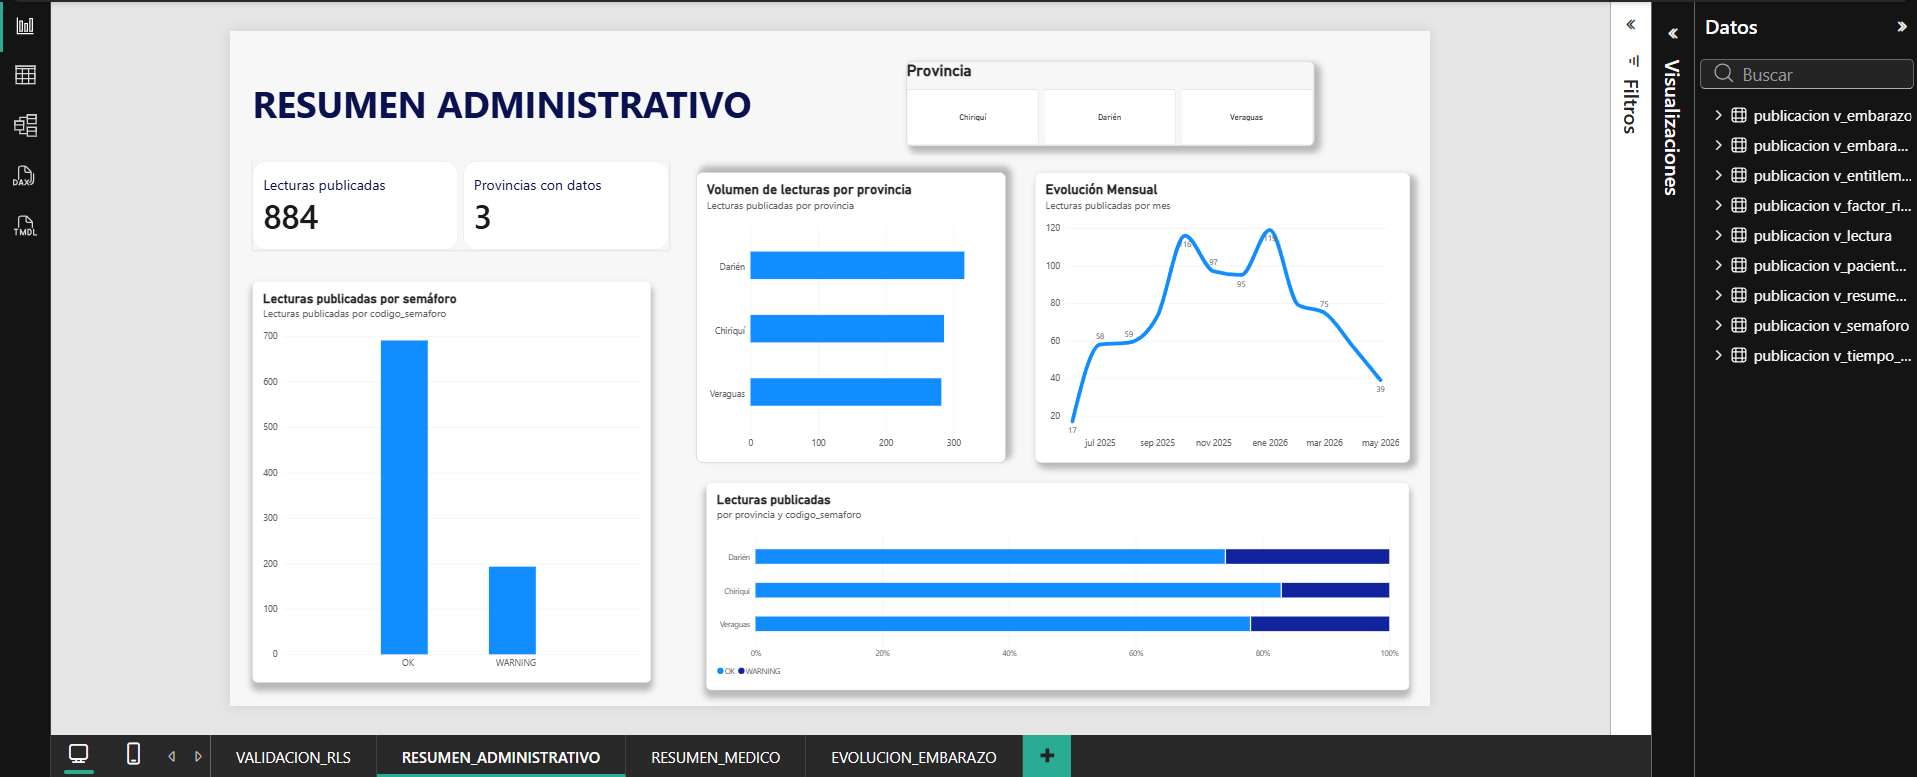

Layout of this report page (visuals, bound fields, positions):
{"tool":"powerbi","page":{"name":"RESUMEN_ADMINISTRATIVO","canvas":[1920,1080],"ordinal":1},"visuals":[{"type":"cardVisual","fields":{"Data":["publicacion v_resumen_administrativo.Lecturas publicadas","publicacion v_resumen_administrativo.Provincias con datos"]},"box":[35,207.5,667.5,142.5],"z":0},{"type":"clusteredColumnChart","title":"Lecturas publicadas por semáforo","fields":{"Category":["publicacion v_resumen_administrativo.codigo_semaforo"],"Y":["publicacion v_resumen_administrativo.Lecturas publicadas"]},"box":[35,400,637.5,642.5],"z":1000},{"type":"hundredPercentStackedBarChart","fields":{"Category":["publicacion v_resumen_administrativo.provincia"],"Series":["publicacion v_resumen_administrativo.codigo_semaforo"],"Y":["publicacion v_resumen_administrativo.Lecturas publicadas"]},"box":[762.5,722.5,1125,332.5],"z":2000},{"type":"lineChart","title":"Evolución Mensual","fields":{"Category":["publicacion v_resumen_administrativo.mes"],"Y":["publicacion v_resumen_administrativo.Lecturas publicadas"]},"box":[1287.5,225,600,465],"z":3000},{"type":"textbox","box":[35,75,962.5,107.5],"z":4000},{"type":"advancedSlicerVisual","title":"Provincia","fields":{"Values":["publicacion v_resumen_administrativo.provincia"]},"box":[1082.5,47.5,652.5,136],"z":5000},{"type":"barChart","title":"Volumen de lecturas por provincia","fields":{"Category":["publicacion v_resumen_administrativo.provincia"],"Y":["publicacion v_resumen_administrativo.Lecturas publicadas"]},"box":[745,225,495,465],"z":6000}]}

Visuals, with their boxes on the page's 1920x1080 design canvas (x1, y1, x2, y2). These are canvas units, not pixel positions in the 1917x777 screenshot, which may show the page scaled, cropped or inside an application window:
cardVisual - publicacion v_resumen_administrativo.Lecturas publicadas x publicacion v_resumen_administrativo.Provincias con datos: detection(35, 208, 702, 350)
"Lecturas publicadas por semáforo" clusteredColumnChart: detection(35, 400, 672, 1042)
hundredPercentStackedBarChart - publicacion v_resumen_administrativo.provincia x publicacion v_resumen_administrativo.codigo_semaforo: detection(762, 722, 1888, 1055)
"Evolución Mensual" lineChart: detection(1288, 225, 1888, 690)
textbox: detection(35, 75, 998, 182)
"Provincia" advancedSlicerVisual: detection(1082, 48, 1735, 184)
"Volumen de lecturas por provincia" barChart: detection(745, 225, 1240, 690)
